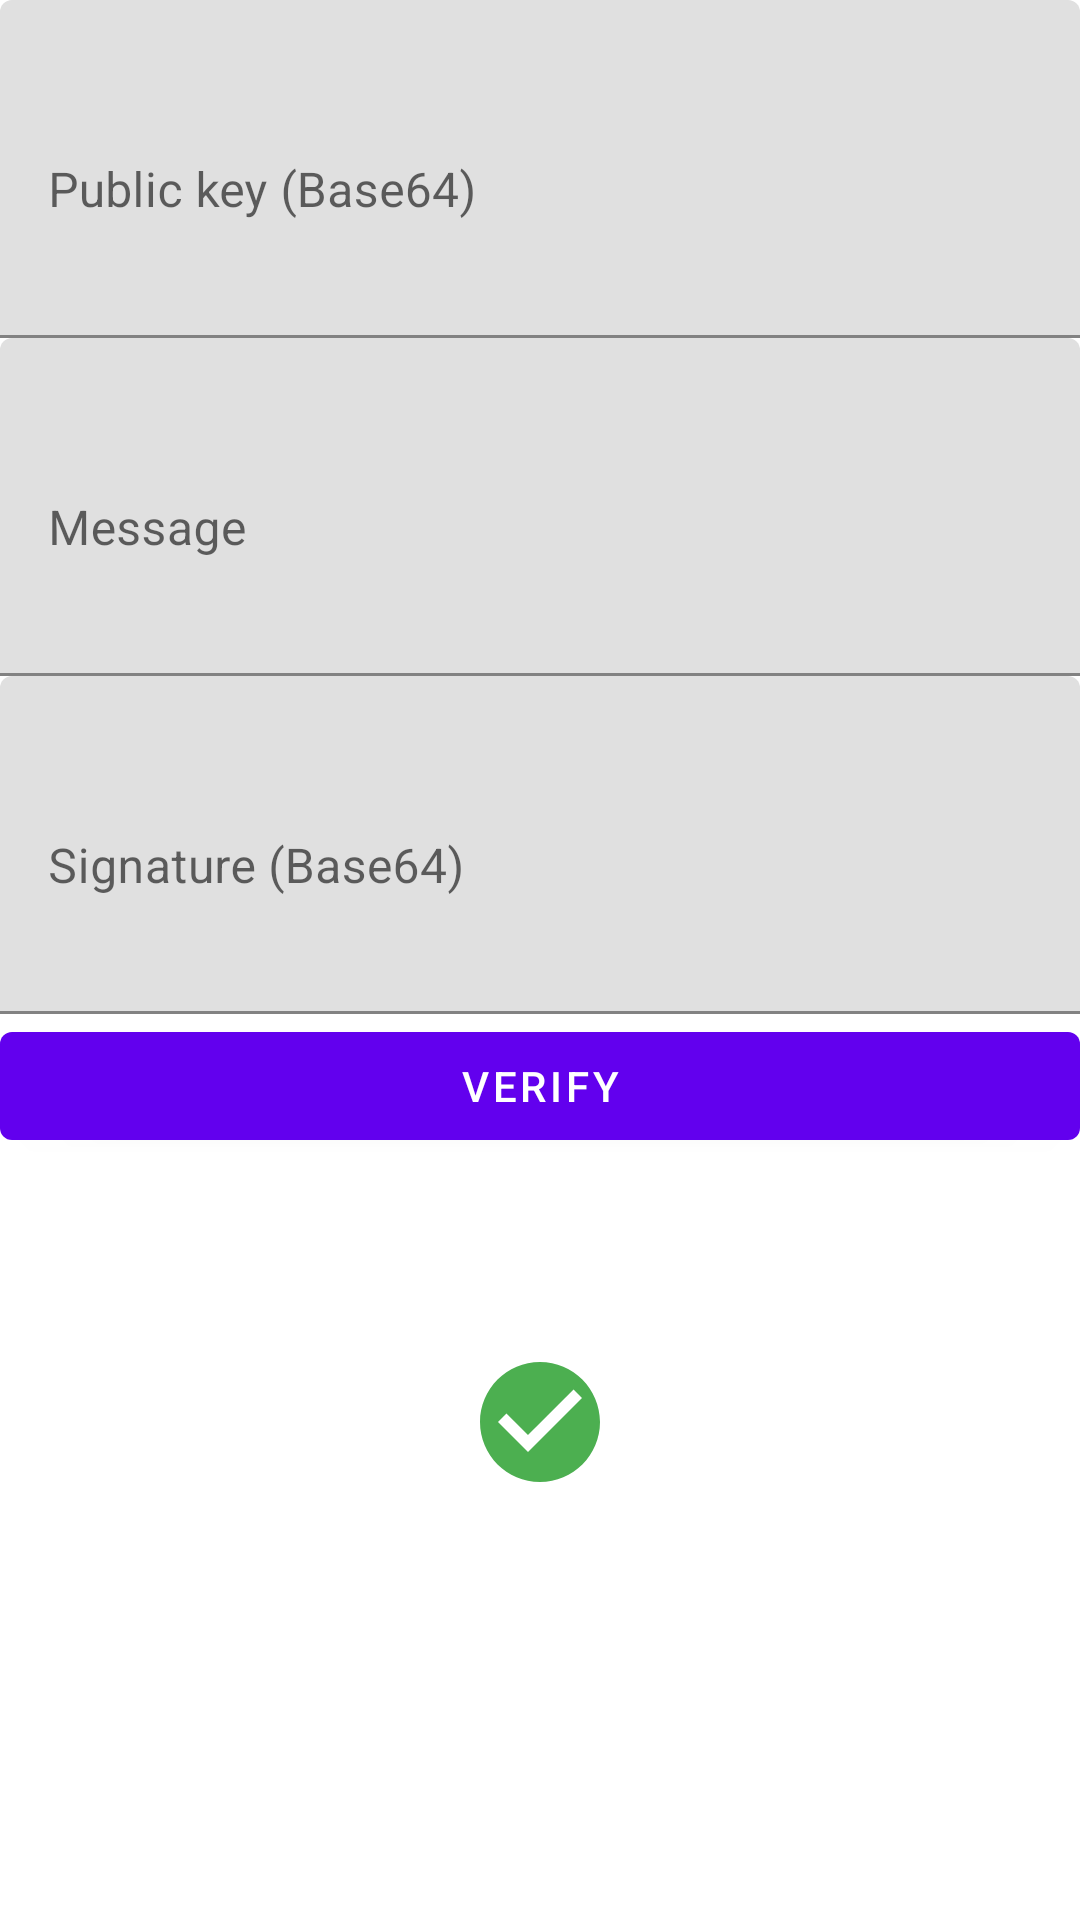

Icon bounding boxes for this 1080 × 1920 phone screenshot, format (x1, y1, x2, y2):
check circle: (480, 1362, 600, 1482)
